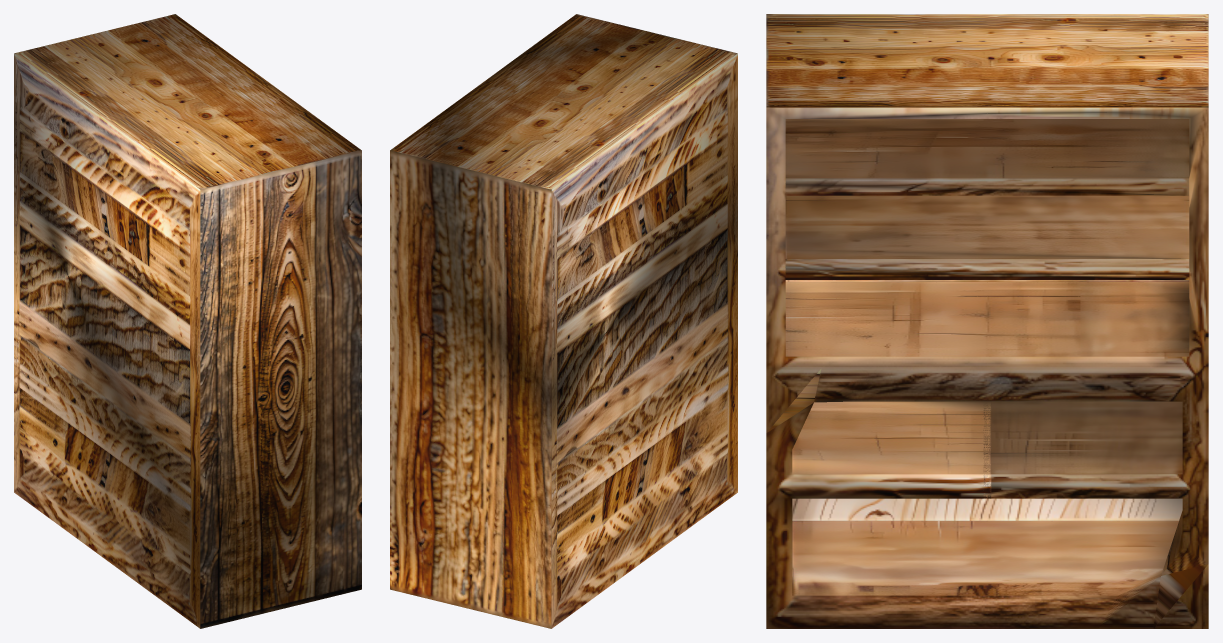
The model's file is cabinet.glb.
3 views of the same model, side by side, from view 1: azimuth 30°, elevation 25°; view 2: azimuth 150°, elevation 25°; view 3: azimuth 270°, elevation 25° (orthographic). The views are drawn at different scales.
Size of the model in its own units: 10 by 26 by 20.
Materials: 1 (1 with a texture image).
